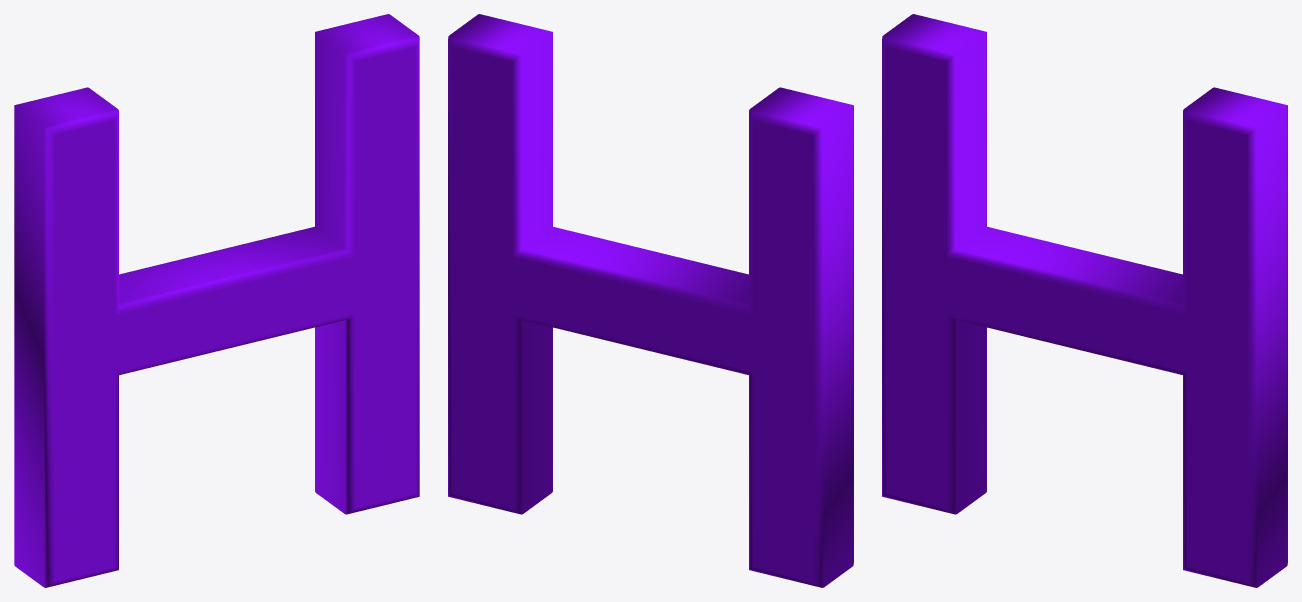
3 renders of one model, left to right at view 1: azimuth 30°, elevation 25°; view 2: azimuth 150°, elevation 25°; view 3: azimuth 330°, elevation 25°, orthographic.
Visible parts, largest first — view 1: HH; view 2: HH; view 3: HH.
Boxes of the visible parts, x1,y1,x2,y2 form: HH: (14,14,419,587); HH: (448,14,853,587); HH: (882,14,1287,587).
Size of the model in its own units: 0.4259 by 0.5 by 0.0713.
